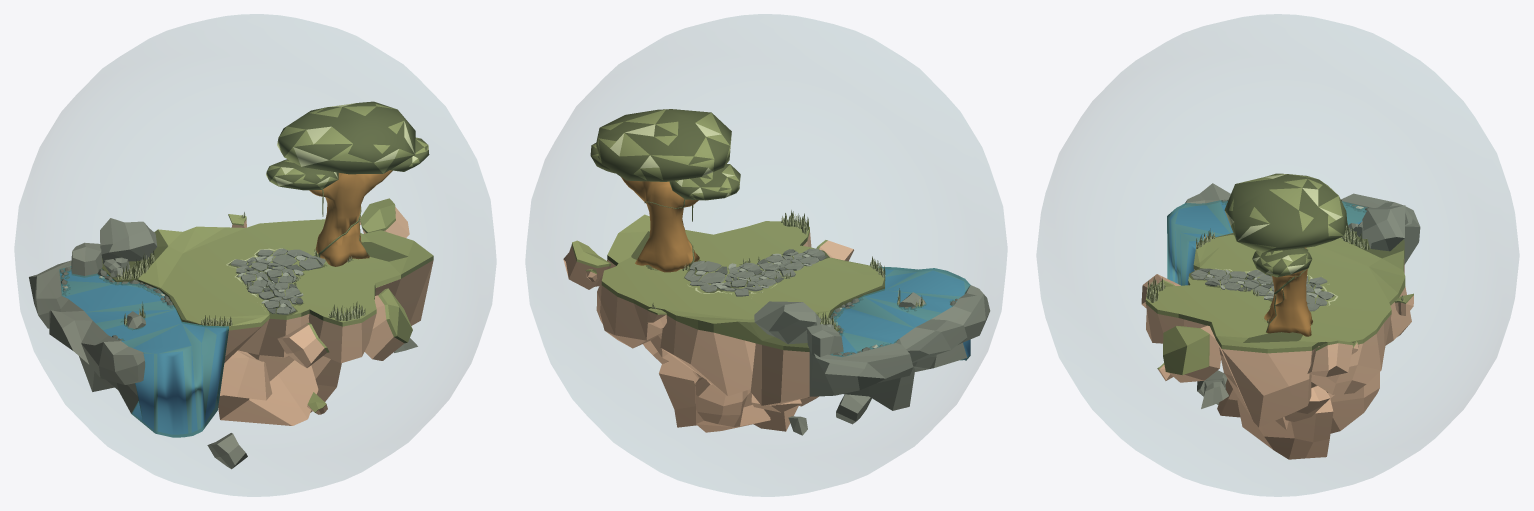
File: Insel.fbx_Scene.fbx
The picture shows the model from 3 angles, left to right: view 1: azimuth 30°, elevation 25°; view 2: azimuth 150°, elevation 25°; view 3: azimuth 270°, elevation 25°; orthographic projection.
Parts seen in each view (by area): view 1: Sphere, Rasen, Wasser Alpha, Wasser, Baumkrone, Stone.015, Baumstamm, Stone.025, Stone.024, Stone.019, Stone.017, Stone (+12 smaller); view 2: Sphere, Rasen, Baumkrone, Wasser Alpha, Wasser, Stone.008, Baumstamm, Stone.027, Stone.007, Stone.004, Stone.003, Stone.019 (+10 smaller); view 3: Sphere, Rasen, Baumkrone, Stone.010, Wasser Alpha, Stone.018, Wasser, Stone.024, Baumstamm, Stone.003, Stone.019, Stone.004 (+8 smaller).
Boxes of the visible parts, <box> form: Sphere: <box>15,14,495,496</box>; Rasen: <box>101,219,433,330</box>; Wasser Alpha: <box>59,266,228,437</box>; Wasser: <box>61,272,225,434</box>; Baumkrone: <box>277,101,415,174</box>; Stone.015: <box>218,352,318,425</box>; Baumstamm: <box>309,170,392,266</box>; Stone.025: <box>81,321,144,384</box>; Stone.024: <box>364,288,412,360</box>; Stone.019: <box>100,218,157,261</box>; Stone.017: <box>220,350,272,400</box>; Stone: <box>308,313,376,363</box>; Sphere: <box>526,14,1006,496</box>; Rasen: <box>601,214,885,351</box>; Baumkrone: <box>596,109,731,181</box>; Wasser Alpha: <box>830,266,970,360</box>; Wasser: <box>834,270,969,356</box>; Stone.008: <box>660,315,755,396</box>; Baumstamm: <box>621,177,699,272</box>; Stone.027: <box>809,339,913,396</box>; Stone.007: <box>750,343,809,405</box>; Stone.004: <box>695,377,770,432</box>; Stone.003: <box>596,280,662,348</box>; Stone.019: <box>754,301,820,344</box>; Sphere: <box>1037,14,1518,496</box>; Rasen: <box>1145,231,1405,353</box>; Baumkrone: <box>1224,173,1346,252</box>; Stone.010: <box>1210,327,1311,427</box>; Wasser Alpha: <box>1167,200,1366,285</box>; Stone.018: <box>1225,375,1333,459</box>; Wasser: <box>1170,202,1364,285</box>; Stone.024: <box>1163,325,1220,382</box>; Baumstamm: <box>1264,247,1312,336</box>; Stone.003: <box>1311,314,1391,394</box>; Stone.019: <box>1362,205,1405,251</box>; Stone.004: <box>1328,372,1379,433</box>.
Size of what is drawn, in the model's own units: 8439 by 8439 by 8439.
